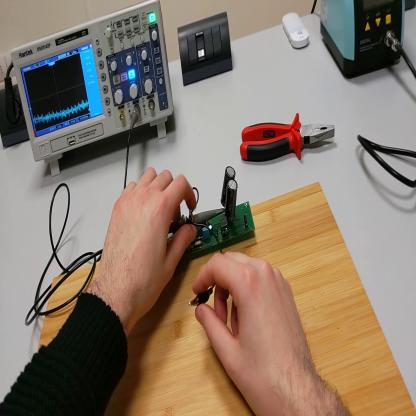hand: (194, 249, 316, 408), (101, 165, 199, 316)
high voltage board: (169, 168, 257, 254)
oscilloscope: (12, 1, 175, 179)
oscilloscope probe tip: (169, 209, 225, 235)
pliers: (239, 103, 335, 160)
socket: (2, 85, 31, 157)
welder station: (321, 3, 406, 77)
working area: (32, 182, 416, 415)
